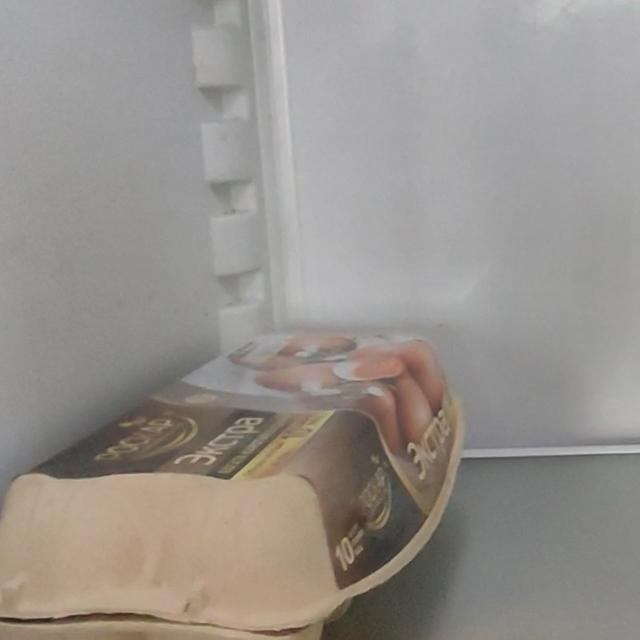egg: (0, 303, 462, 640)
